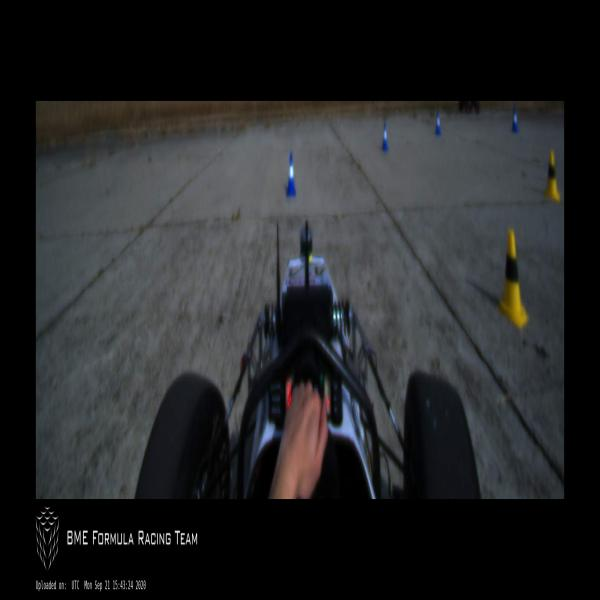blue_cone: (286, 153, 296, 196), (511, 105, 519, 134), (381, 124, 388, 153), (434, 110, 440, 136)
yellow_cone: (497, 226, 528, 328), (544, 150, 560, 202)
